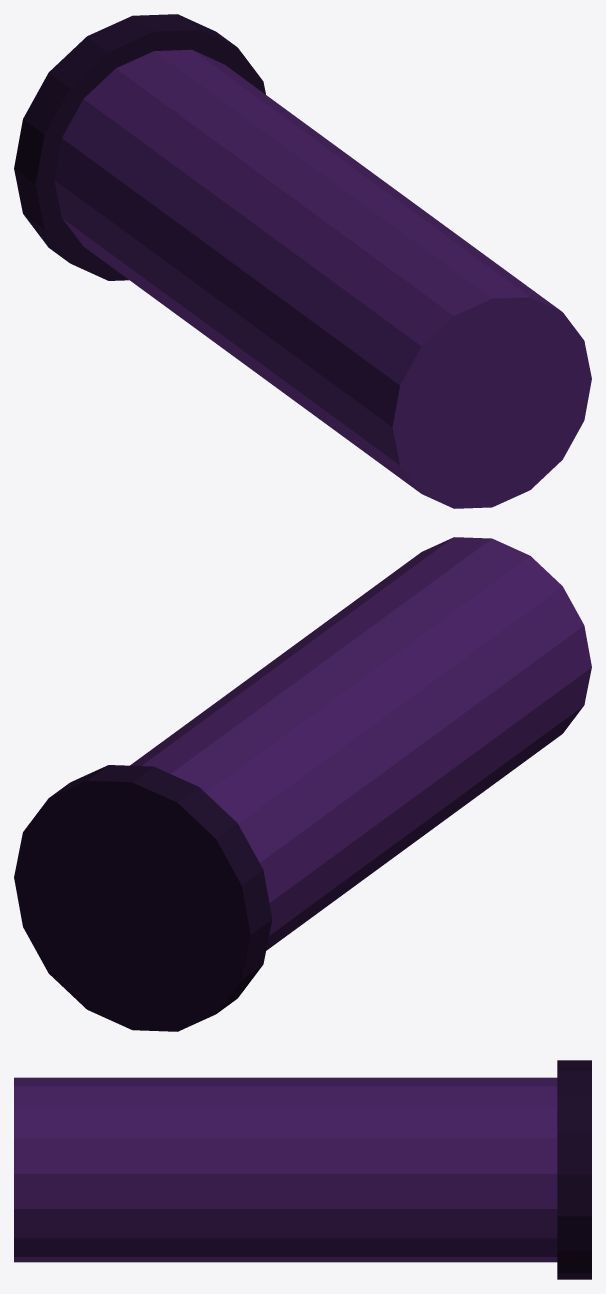
The model's file is swarm_outpost.glb.
3 views of the same model, one above another, from view 1: azimuth 30°, elevation 25°; view 2: azimuth 150°, elevation 25°; view 3: azimuth 270°, elevation 25° (orthographic). The views are drawn at different scales.
Visible parts, largest first — view 1: swarm_outpost; view 2: swarm_outpost; view 3: swarm_outpost.
Boxes of the visible parts, x1=… form: swarm_outpost: x1=14, y1=14, x2=591, y2=508; swarm_outpost: x1=14, y1=537, x2=591, y2=1031; swarm_outpost: x1=14, y1=1060, x2=591, y2=1279.
Size of the model in its own units: 380 by 380 by 1000.
Materials: 1 (1 with a texture image).
